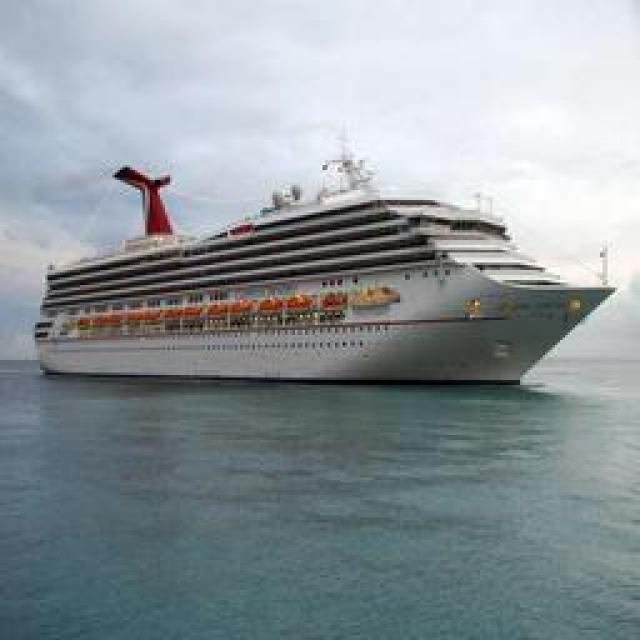CIV_Ship: (26, 180, 612, 390)
